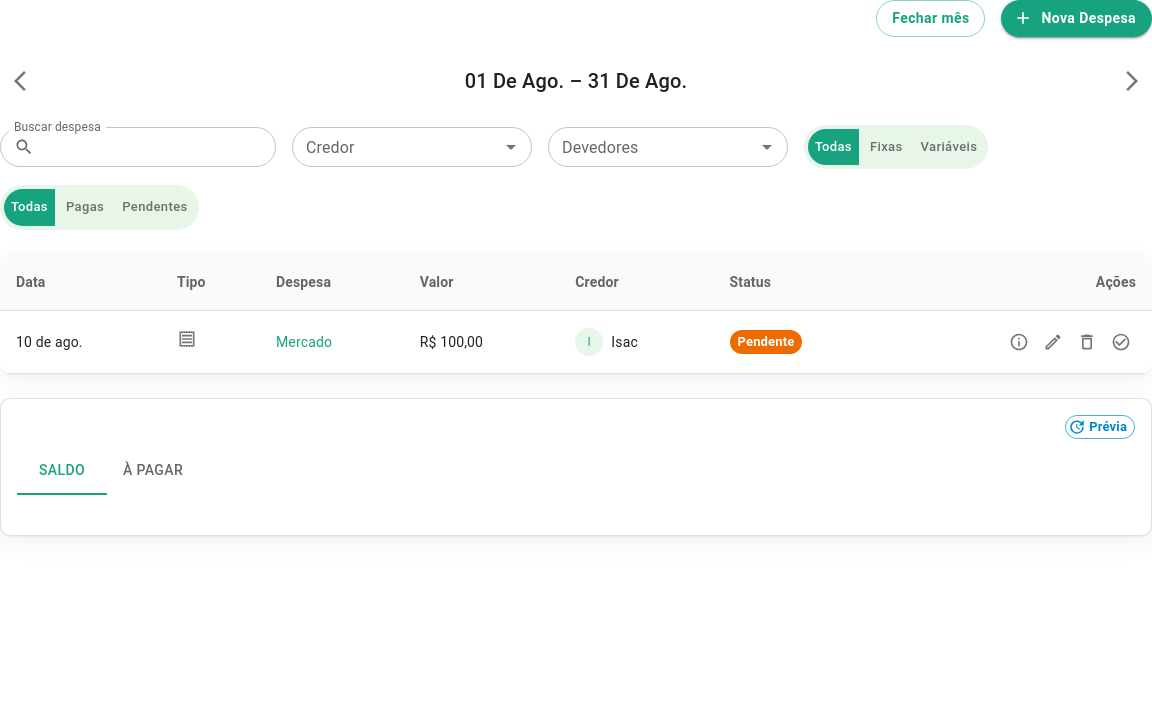
Scenario: ExpenseManager - modal de detalhes: tipo, parcela e valor por pagador › labels IN_CASH as "À Vista" and hides the installment total
Click the button named "Ver detalhes": [1019, 342] box [1004,327,1034,357]
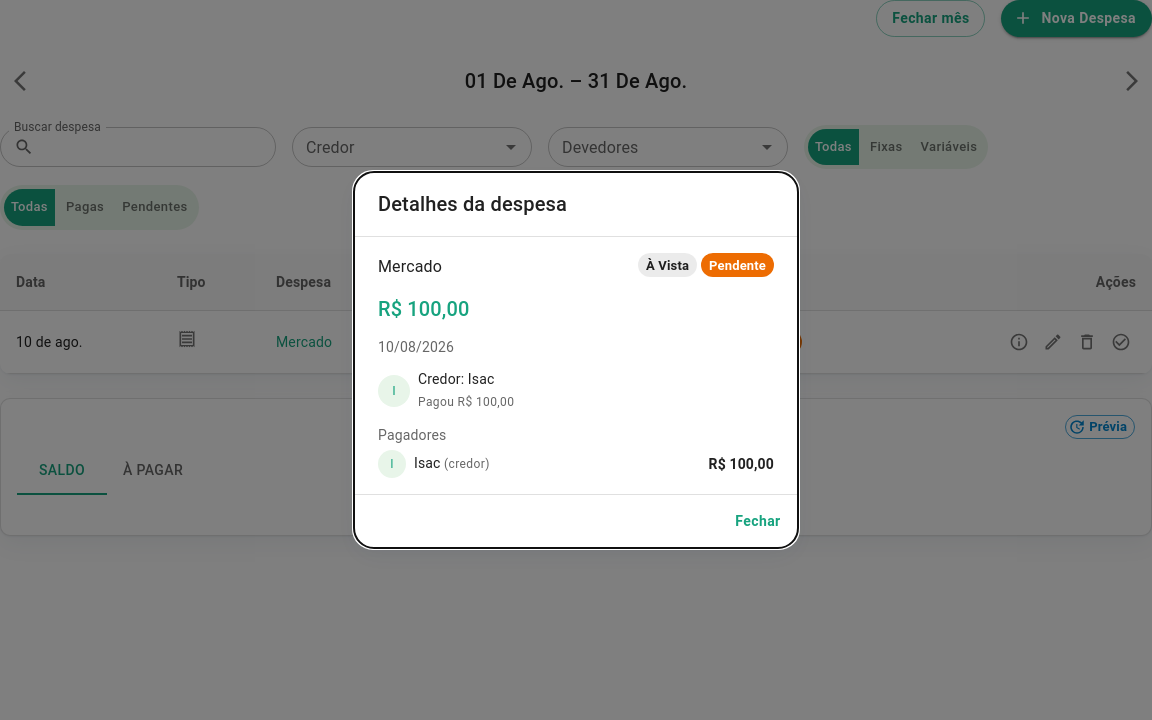
Check: the text "À Vista" is shown, box [646,258,689,272]
